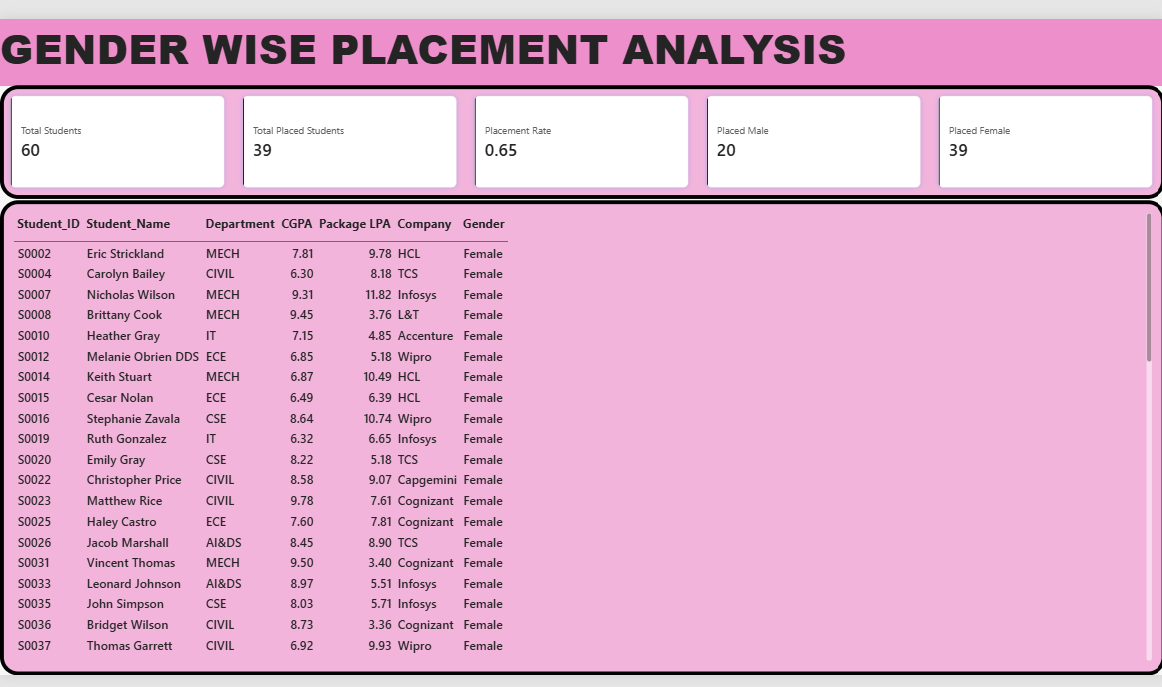

Layout of this report page (visuals, bound fields, positions):
{"tool":"powerbi","page":{"name":"Page 2","canvas":[1920,1080],"ordinal":1},"visuals":[{"type":"cardVisual","title":"GENDER WISE PLACEMENT ANALYSIS","fields":{"Rows":["Enhanced_Engineering_College_Placement_Record (4).Placement_Status"]},"box":[0,0,1920,110],"z":0},{"type":"cardVisual","fields":{"Data":["Enhanced_Engineering_College_Placement_Record (4).Total Students","Enhanced_Engineering_College_Placement_Record (4).Total Placed Students","Enhanced_Engineering_College_Placement_Record (4).Placement Rate","Enhanced_Engineering_College_Placement_Record (4).Placed Male","Enhanced_Engineering_College_Placement_Record (4).Placed Female"]},"box":[0,110,1920,187.5],"z":1},{"type":"tableEx","fields":{"Values":["Enhanced_Engineering_College_Placement_Record (4).Student_ID","Enhanced_Engineering_College_Placement_Record (4).Student_Name","Enhanced_Engineering_College_Placement_Record (4).Department","Sum(Enhanced_Engineering_College_Placement_Record (4).CGPA)","Enhanced_Engineering_College_Placement_Record (4).Company","Sum(Enhanced_Engineering_College_Placement_Record (4).Package_LPA)","Enhanced_Engineering_College_Placement_Record (4).Gender"]},"box":[0,298.5,1920.4,782.2],"z":2}]}

Visuals, with their boxes on the page's 1920x1080 design canvas (x1, y1, x2, y2). These are canvas units, not pixel positions in the 1162x687 screenshot, which may show the page scaled, cropped or inside an application window:
"GENDER WISE PLACEMENT ANALYSIS" cardVisual: left=0, top=0, right=1920, bottom=110
cardVisual - Enhanced_Engineering_College_Placement_Record (4).Total Students x Enhanced_Engineering_College_Placement_Record (4).Total Placed Students: left=0, top=110, right=1920, bottom=298
tableEx - Enhanced_Engineering_College_Placement_Record (4).Student_ID x Enhanced_Engineering_College_Placement_Record (4).Student_Name: left=0, top=298, right=1920, bottom=1081
